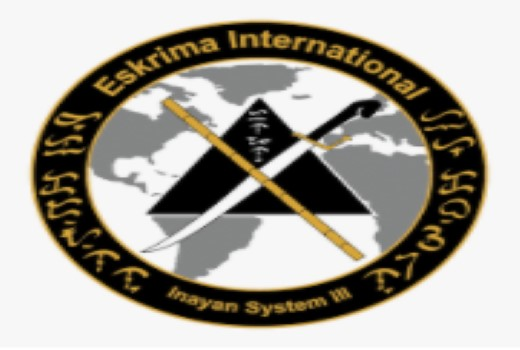baston_e: (166, 108, 348, 263)
baston_v: (345, 246, 365, 266), (158, 94, 174, 110)
